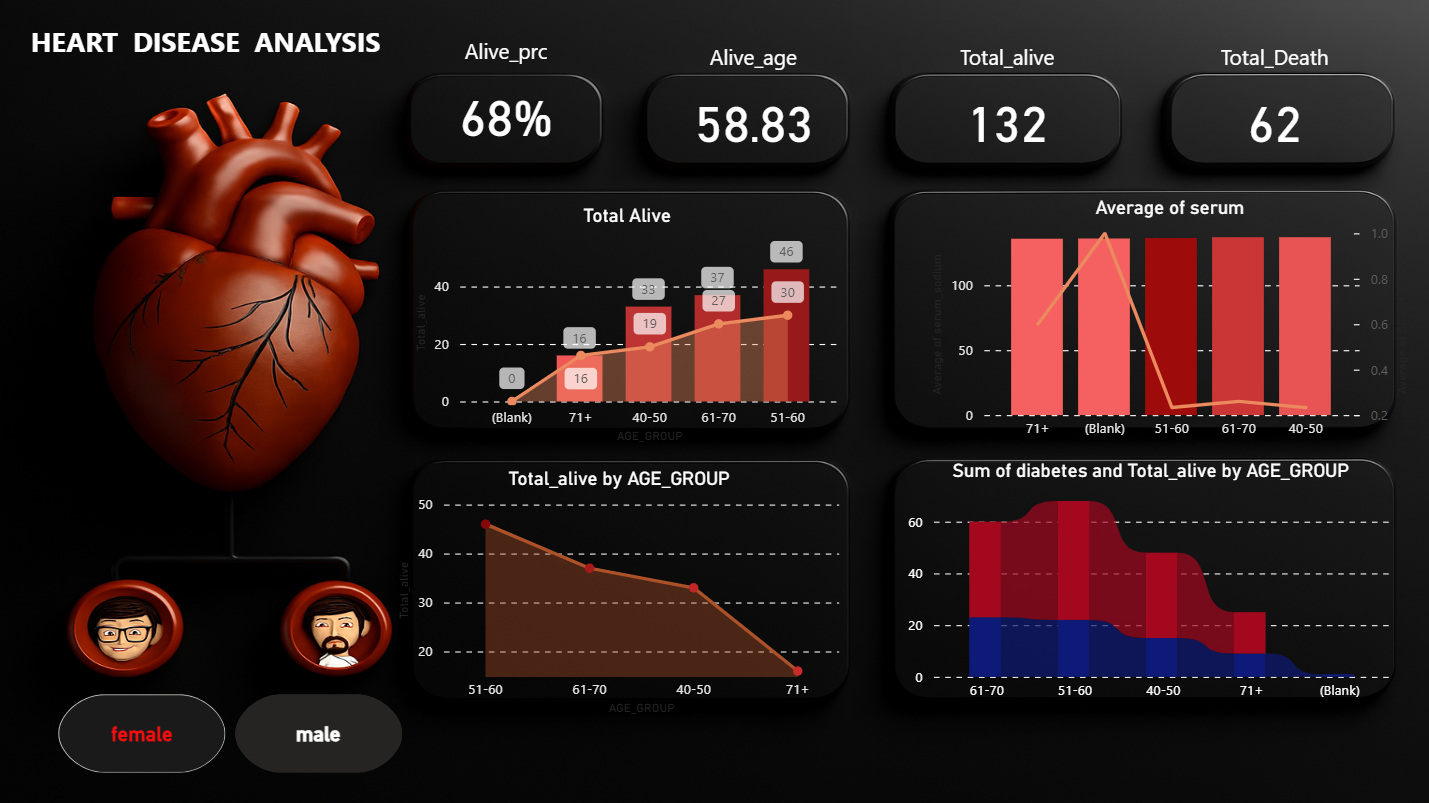

The dashboard page shown, as its layout file describes it:
{"tool":"powerbi","page":{"name":"Page 1","canvas":[1280,720],"ordinal":0},"visuals":[{"type":"textbox","box":[23.1,20.2,378,47.6],"z":0},{"type":"cardVisual","fields":{"Data":["heart_Disease_clinical_records_.Alive_prc"]},"box":[365,20.2,173.1,121.2],"z":1000},{"type":"cardVisual","fields":{"Data":["heart_Disease_clinical_records_.Alive_age"]},"box":[578.5,15.9,186.1,150],"z":2000},{"type":"cardVisual","fields":{"Data":["heart_Disease_clinical_records_.Total_alive"]},"box":[805.1,15.9,186.1,150],"z":3000},{"type":"cardVisual","fields":{"Data":["heart_Disease_clinical_records_.Total_Death"]},"box":[1042.5,16,186,150],"z":4000},{"type":"lineStackedColumnComboChart","title":"Total Alive","fields":{"Y":["heart_Disease_clinical_records_.Total_alive"],"Y2":["Sum(heart_Disease_clinical_records_.cancer)"],"Category":["heart_Disease_clinical_records_.AGE_GROUP"]},"box":[365.6,185.8,388.5,218.4],"z":5000},{"type":"lineStackedColumnComboChart","title":"Average of serum","fields":{"Category":["heart_Disease_clinical_records_.AGE_GROUP"],"Y":["Avg(heart_Disease_clinical_records_.serum_sodium)"],"Y2":["Avg(heart_Disease_clinical_records_.DEATH_EVENT)"]},"box":[825.3,178.9,435.7,225.1],"z":6000},{"type":"lineChart","fields":{"Category":["heart_Disease_clinical_records_.AGE_GROUP"],"Y":["heart_Disease_clinical_records_.Total_alive"]},"box":[351.1,421,403,225.6],"z":7000},{"type":"ribbonChart","fields":{"Category":["heart_Disease_clinical_records_.AGE_GROUP"],"Y":["Sum(heart_Disease_clinical_records_.diabetes)","heart_Disease_clinical_records_.Total_alive"]},"box":[804.7,412.6,441.6,224.4],"z":8000},{"type":"advancedSlicerVisual","fields":{"Values":["heart_Disease_clinical_records_.Gendar"]},"box":[48.3,617.7,317.3,80.8],"z":9000}]}

Visuals, with their boxes in screenshot pixels (x1, y1, x2, y2), scaled from the page's 1280x720 canvas onto the 1429x803 screenshot:
textbox: 26, 23, 448, 76
cardVisual - heart_Disease_clinical_records_.Alive_prc: 407, 23, 601, 158
cardVisual - heart_Disease_clinical_records_.Alive_age: 646, 18, 854, 185
cardVisual - heart_Disease_clinical_records_.Total_alive: 899, 18, 1107, 185
cardVisual - heart_Disease_clinical_records_.Total_Death: 1164, 18, 1372, 185
"Total Alive" lineStackedColumnComboChart: 408, 207, 842, 451
"Average of serum" lineStackedColumnComboChart: 921, 200, 1408, 451
lineChart - heart_Disease_clinical_records_.AGE_GROUP x heart_Disease_clinical_records_.Total_alive: 392, 470, 842, 721
ribbonChart - heart_Disease_clinical_records_.AGE_GROUP x Sum(heart_Disease_clinical_records_.diabetes): 898, 460, 1391, 710
advancedSlicerVisual - heart_Disease_clinical_records_.Gendar: 54, 689, 408, 779
